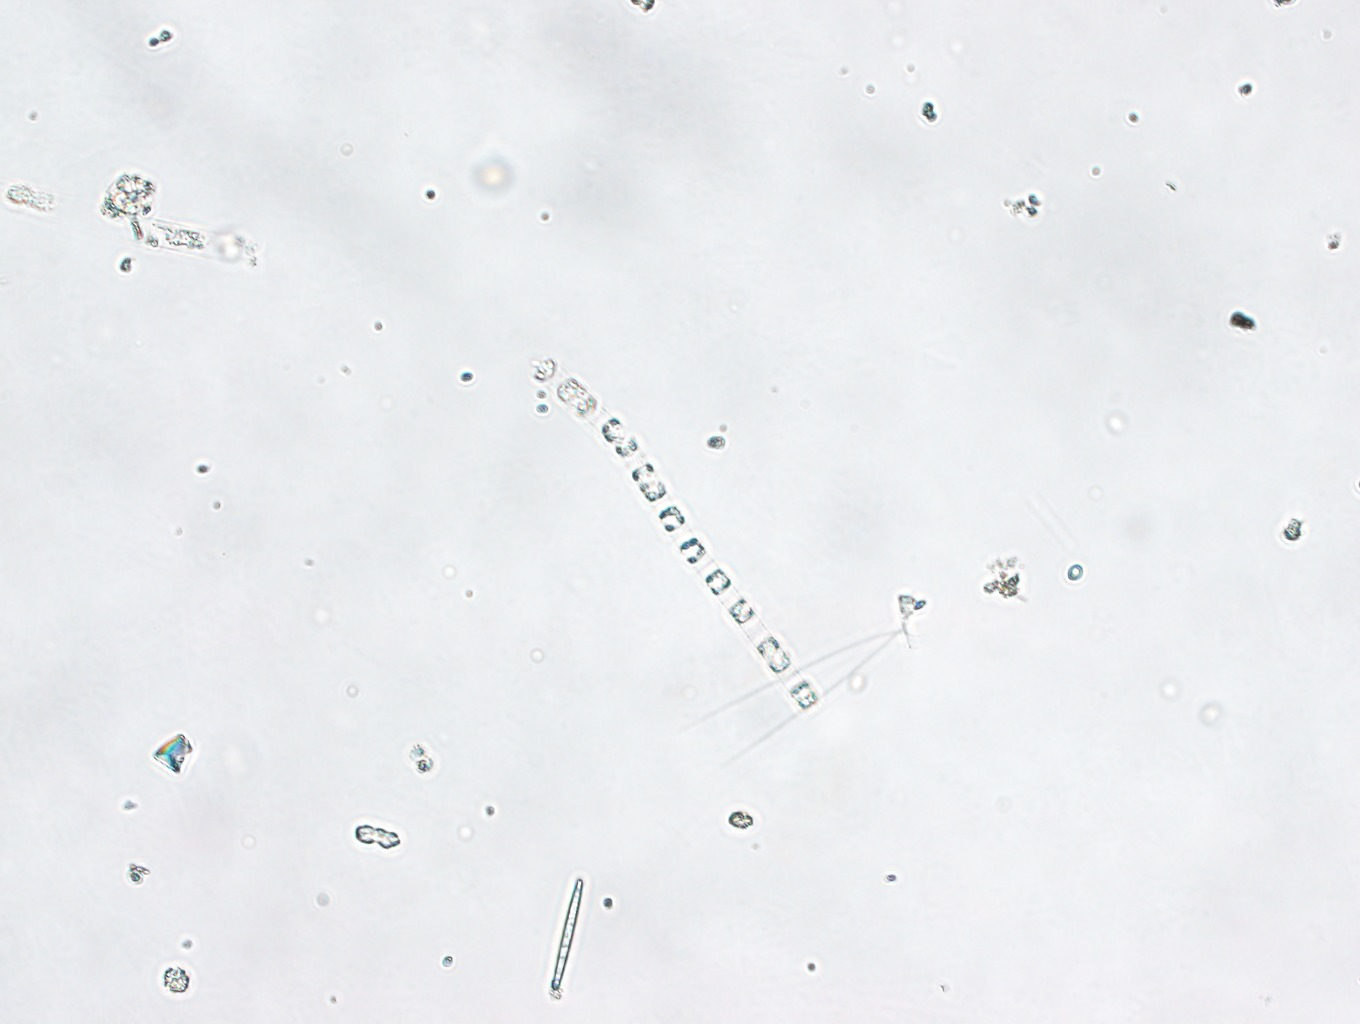skeletonema: (544, 358, 820, 714)
